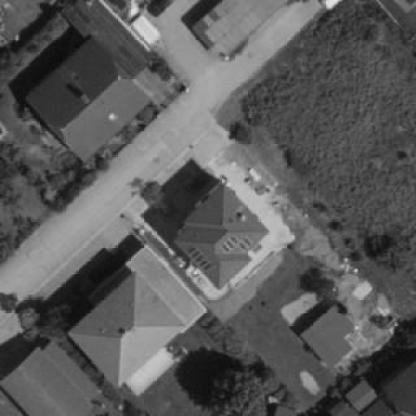solar-pv-panel: (187, 244, 214, 272), (219, 234, 252, 254)
